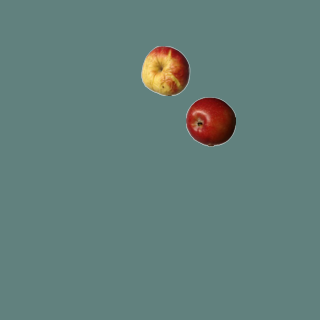Apple Braeburn: (185, 96, 235, 146)
Apple Red Yellow 1: (140, 45, 190, 95)
